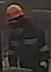helmet: (3, 2, 26, 24)
vest: (8, 21, 43, 67)
